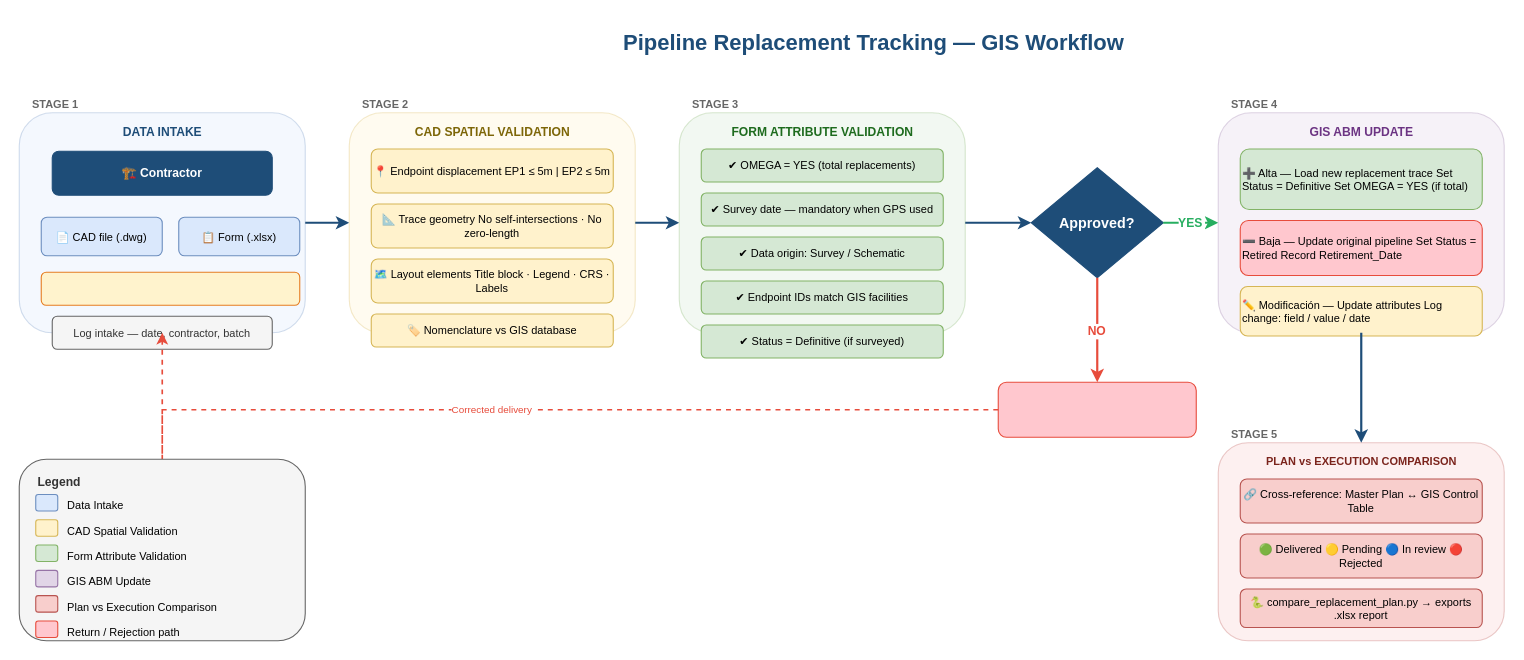
Image size: 1524x660. Some labels were removed from this diagram. The centre of each missing label's shape, as x and y in pixels:
⚠️ 1 CAD + 1 Form per pipeline: [170,288]
📋 Observation Report Return to contractor for correction: [1096,409]
